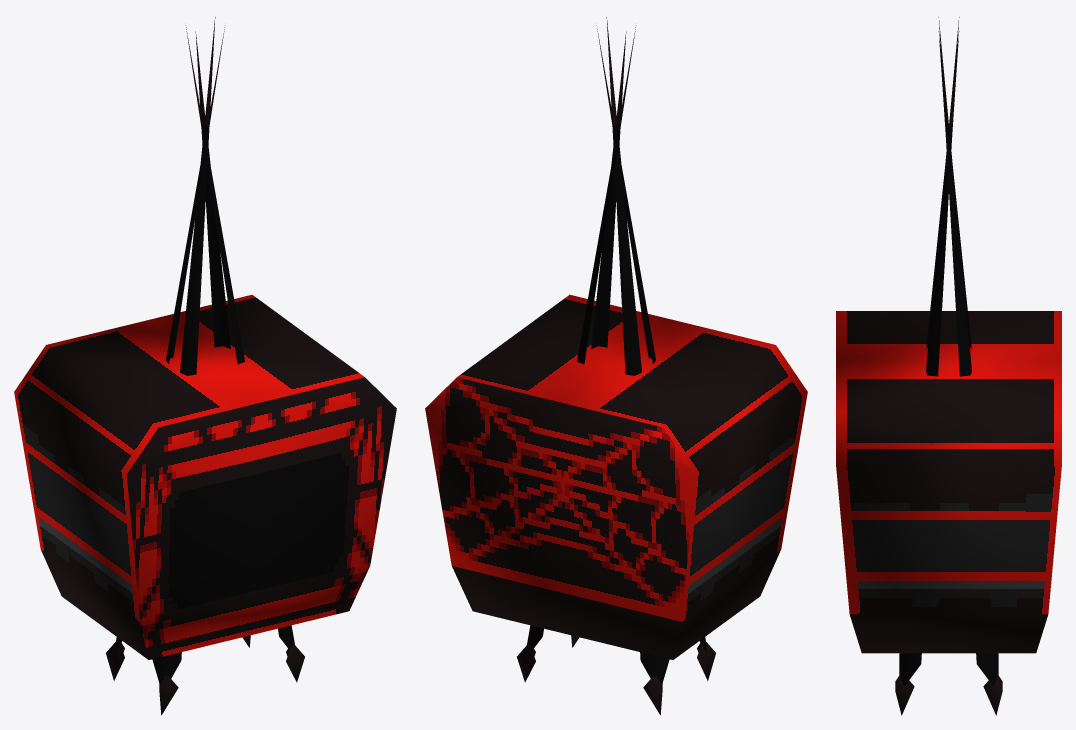
3 renders of one model, left to right at view 1: azimuth 30°, elevation 25°; view 2: azimuth 150°, elevation 25°; view 3: azimuth 270°, elevation 25°, orthographic.
Parts seen in each view (by area): view 1: 3502IMEL01_19; view 2: 3502IMEL01_19; view 3: 3502IMEL01_19.
Part boxes in pixels (left/top/right/bottom): 3502IMEL01_19: left=14, top=17, right=396, bottom=715; 3502IMEL01_19: left=425, top=17, right=807, bottom=715; 3502IMEL01_19: left=836, top=17, right=1061, bottom=715.
Size of the model in its own units: 0.8496 by 1.99 by 0.6143.
Materials: 4 (4 with a texture image).
